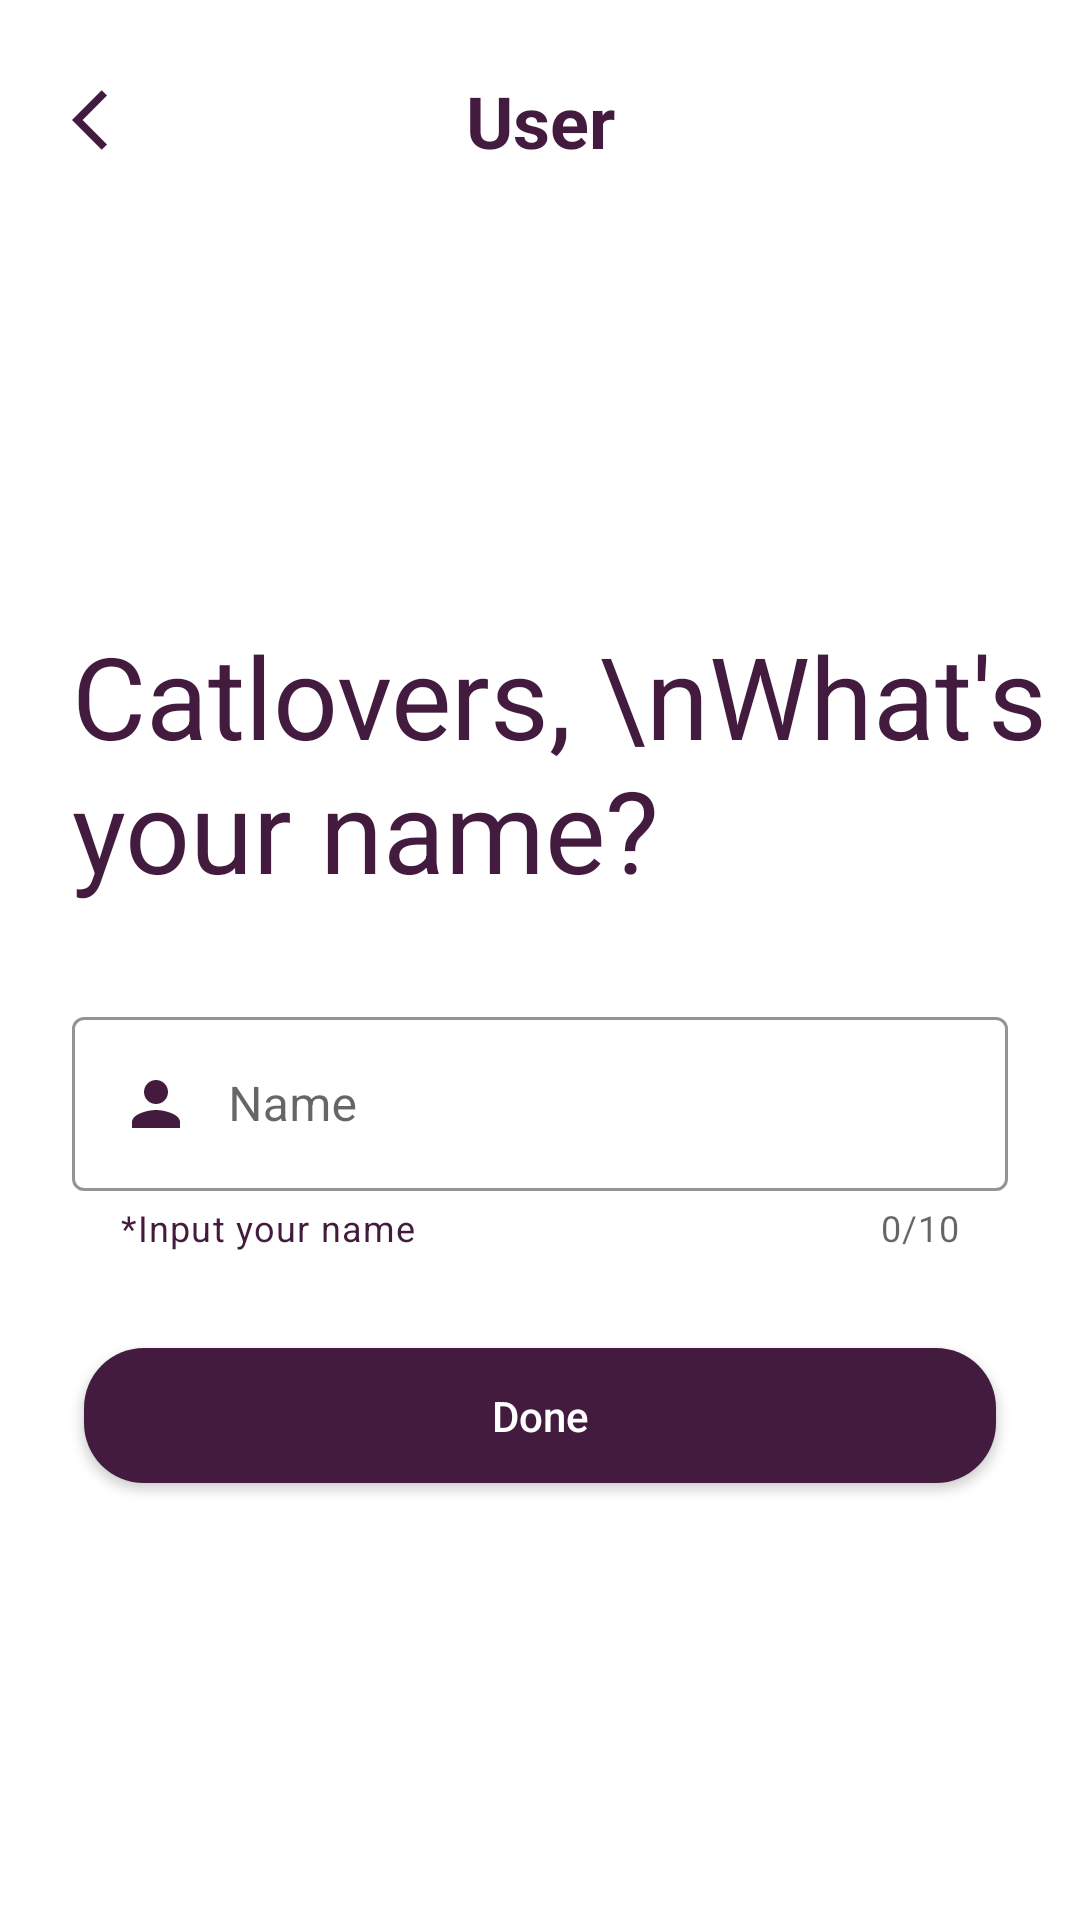

Where icons sit on this 1080px×1920px app screen, as Rect(x1, y1, x2, y2):
back: Rect(72, 90, 107, 150)
